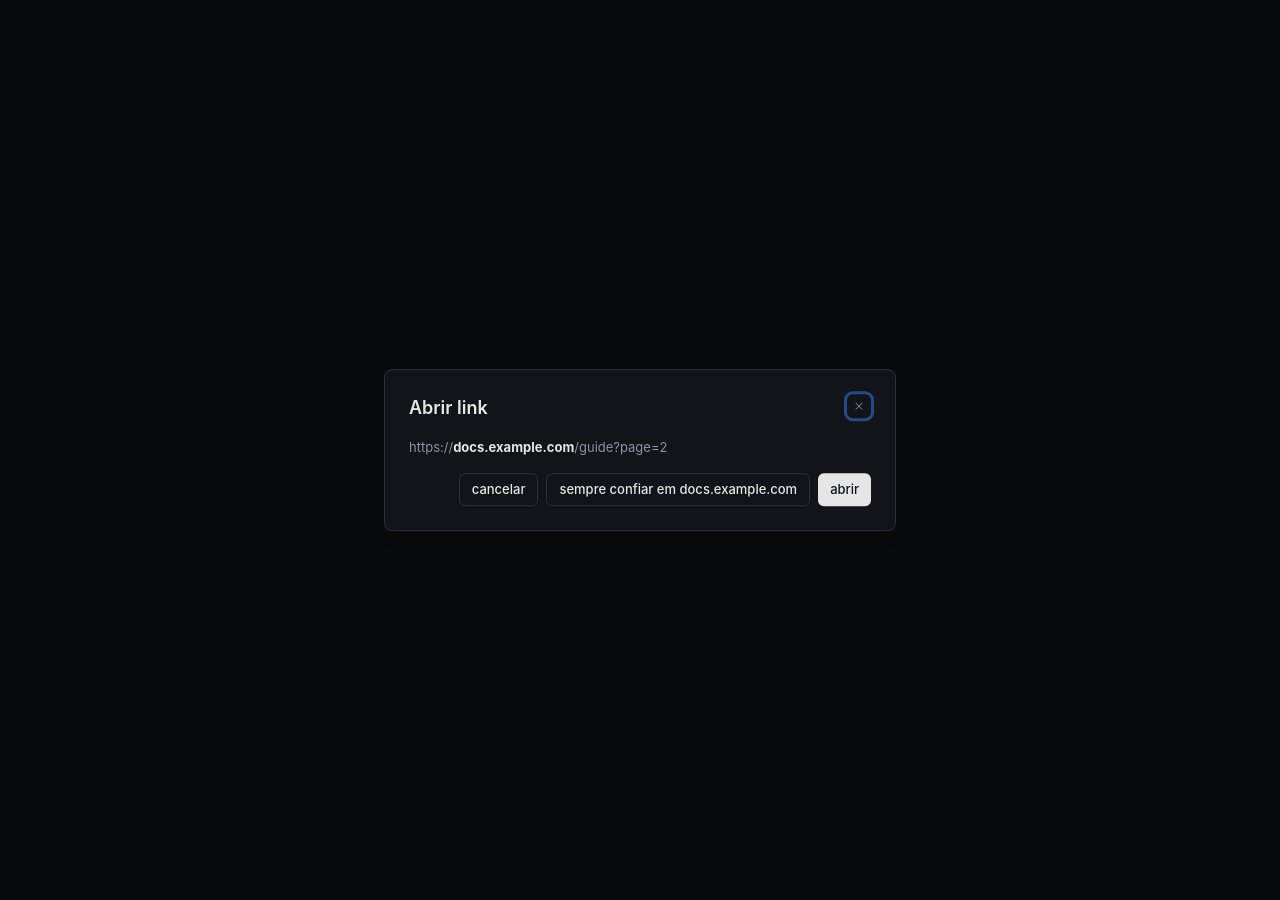
Test: a refused trust shows the route's error in the dialog, which stays open, and opens nothing (#404)
Click the button "sempre confiar em docs.example.com": (678,490) [546,473,810,506]
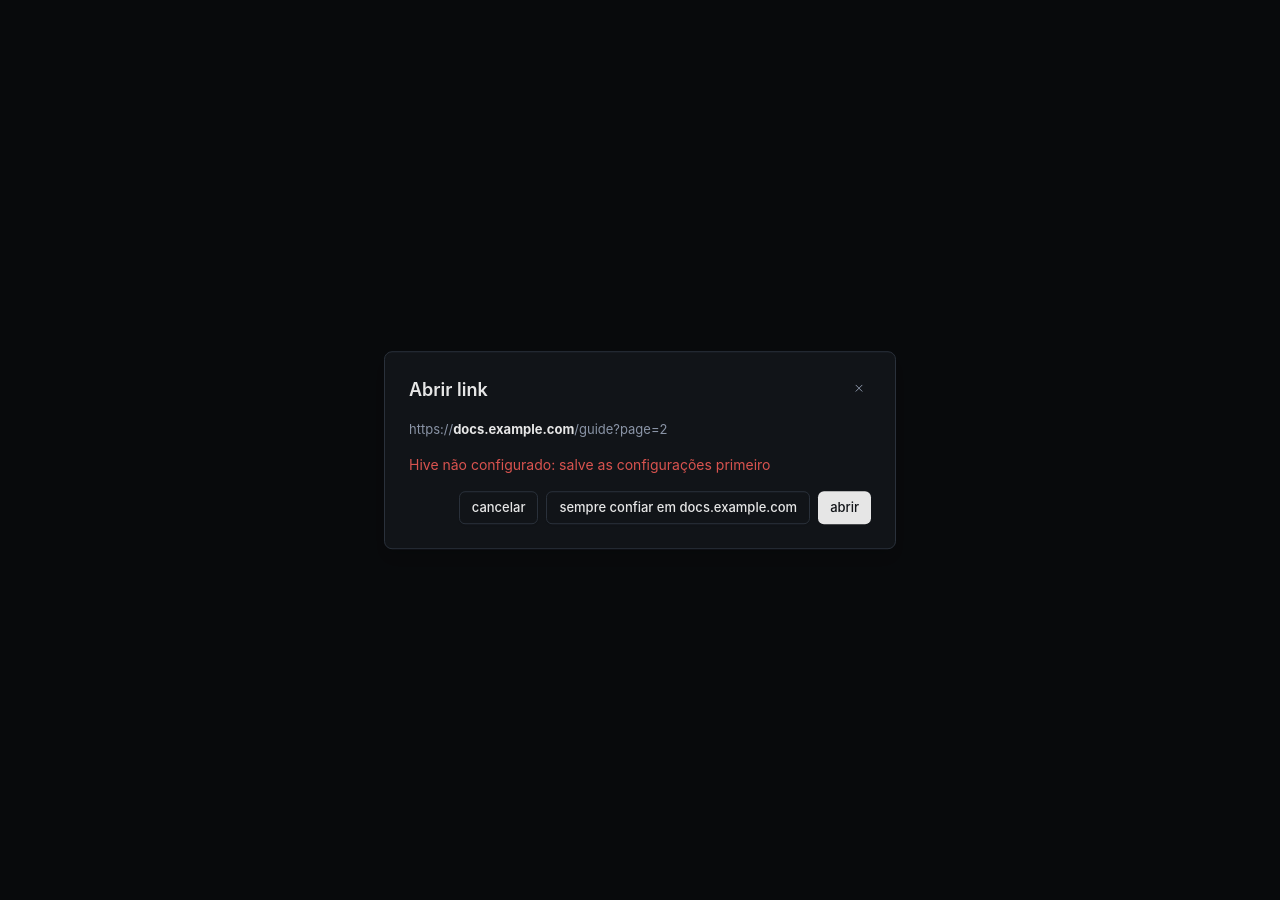
Expected: the dialog is shown, [384,351,896,549]
Now the message reads "Hive não configurado: salve as configurações primeiro", box [409,456,770,473]
